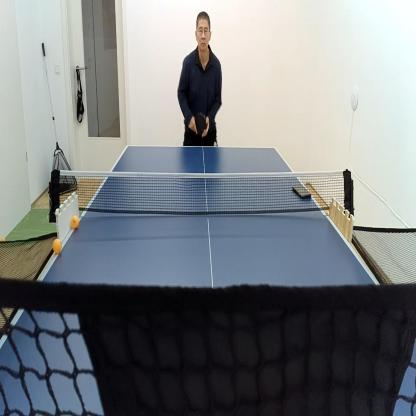Ball: (71, 214, 78, 230), (54, 238, 61, 253)
